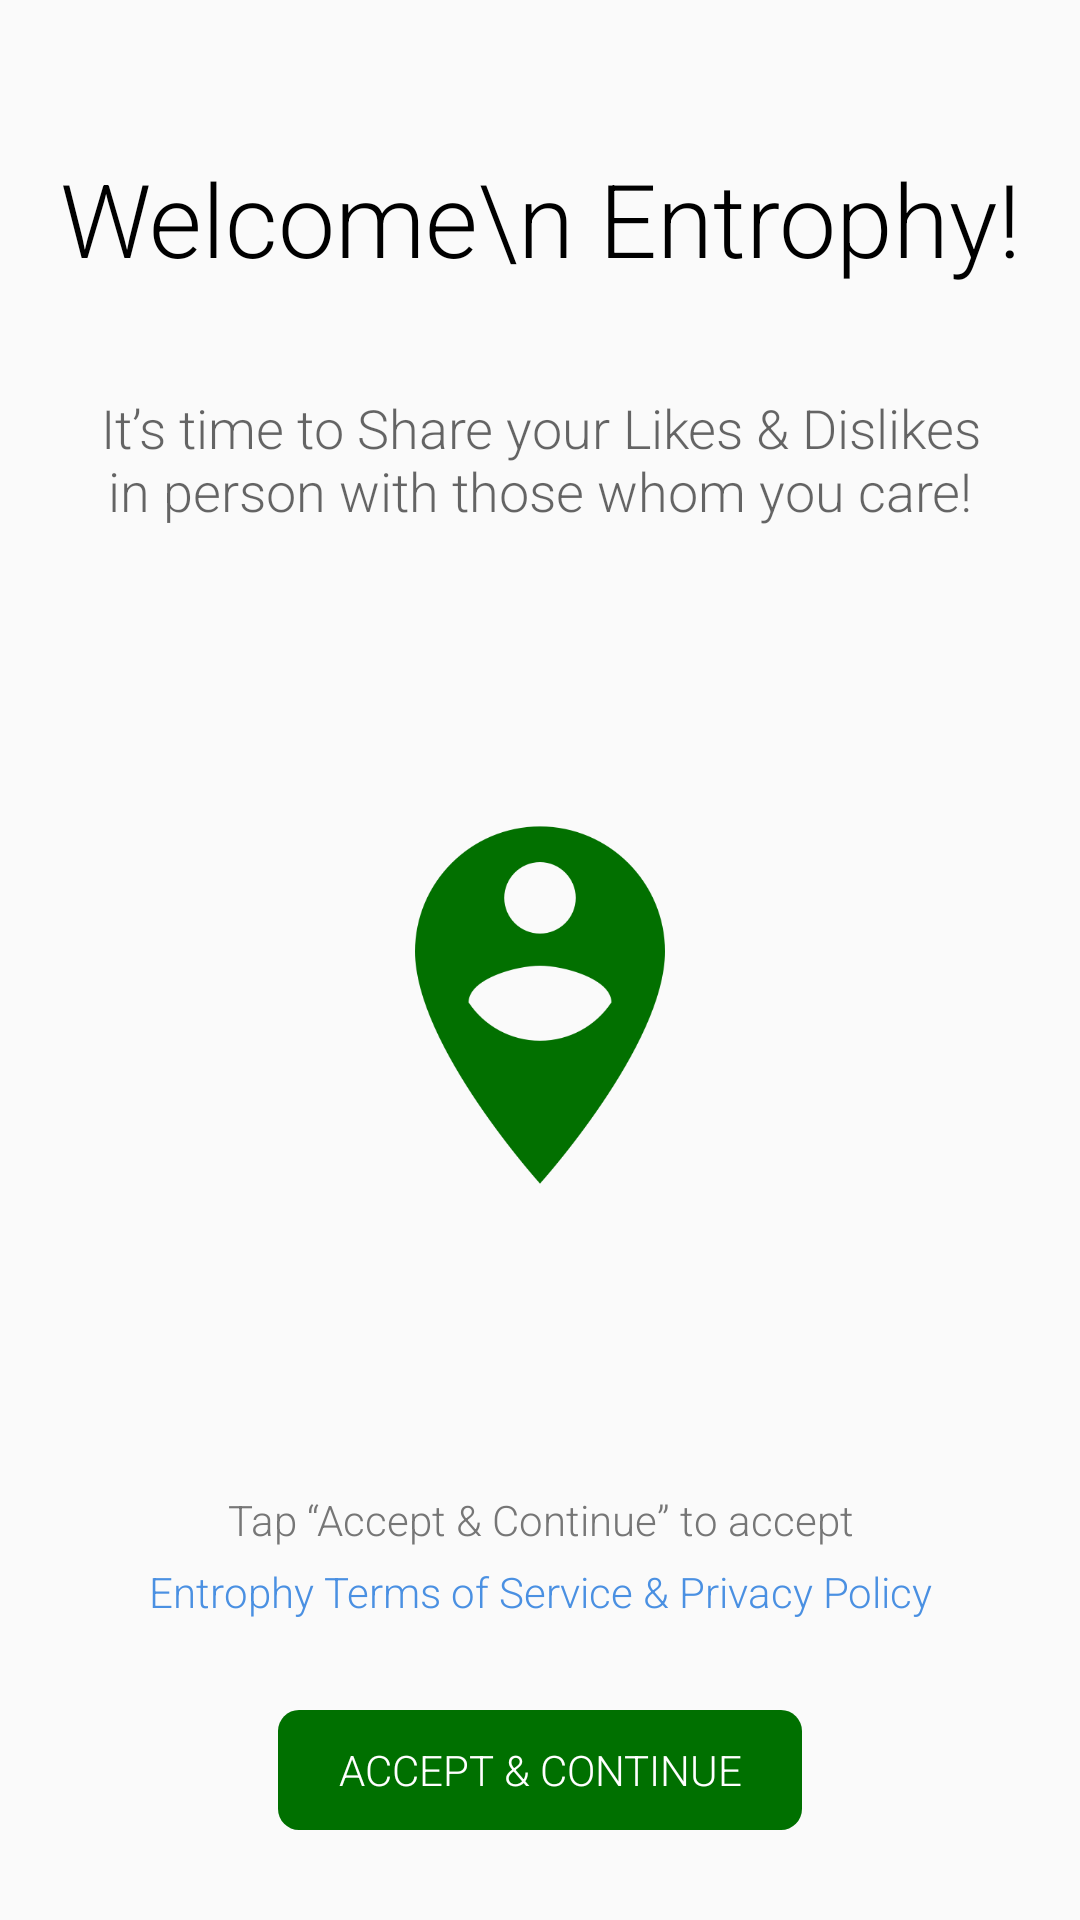

Where to tap for icons on this 1080x1920 app screen, as (x,y):
location: (540,1005)
